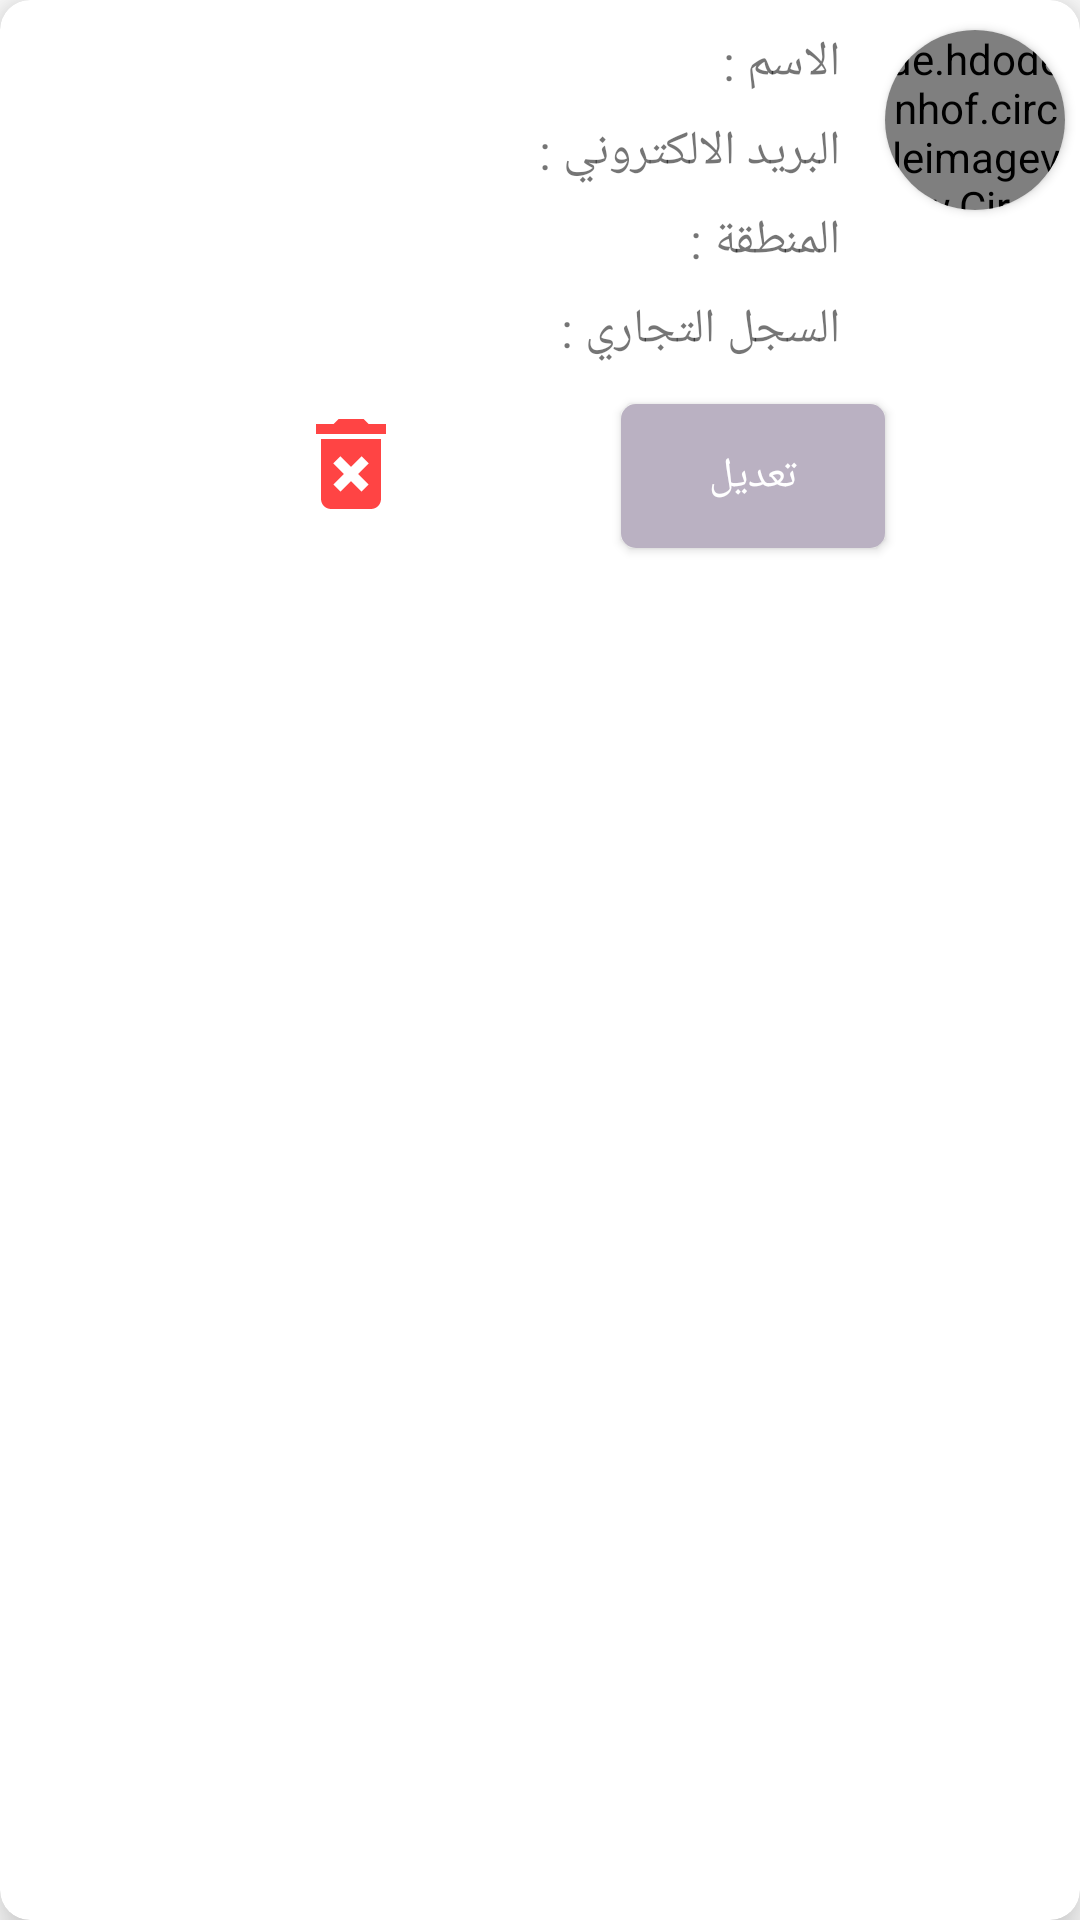

Icon click points for this 1080 × 1920 phone screenshot, format (x,y):
delete: (351,464)
